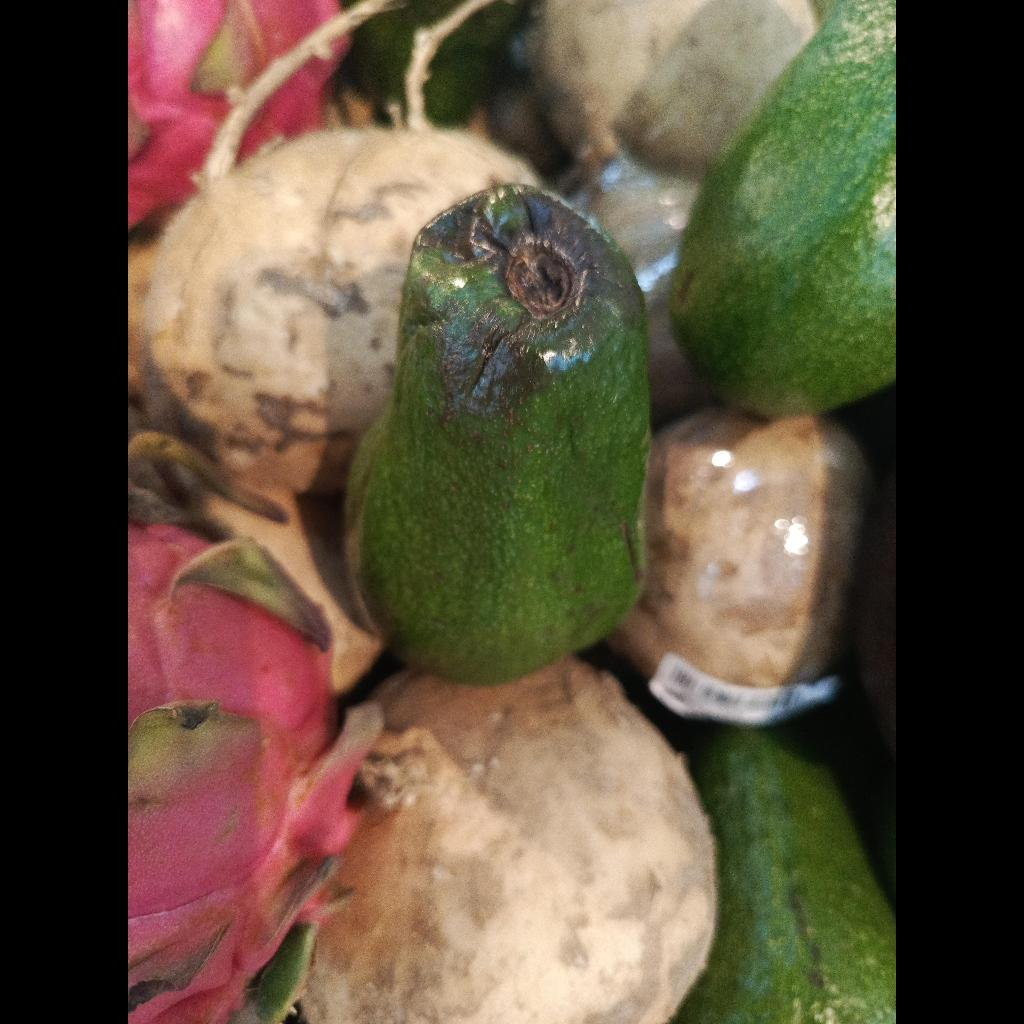pudricion_peduncular: (346, 185, 650, 684)
